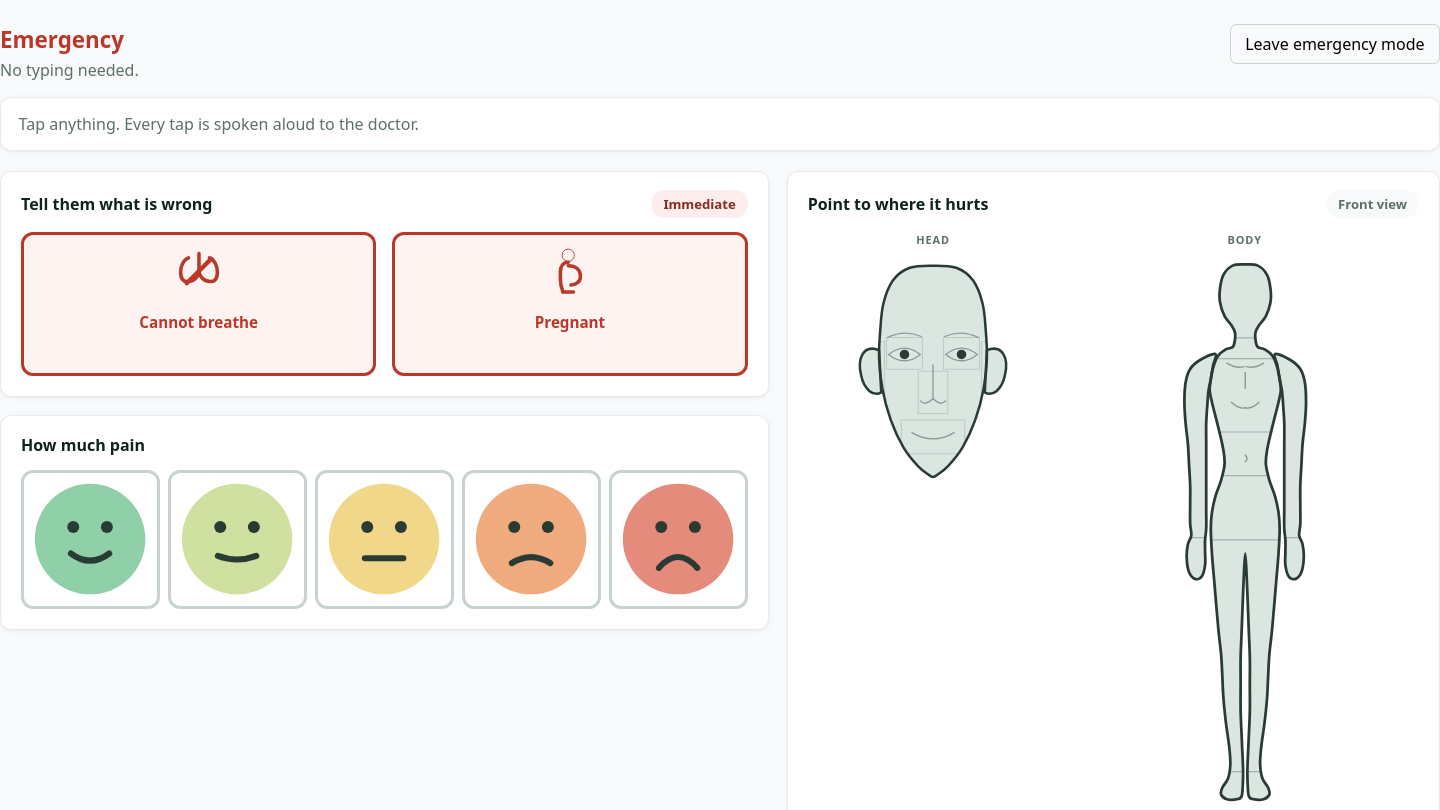
it: telling the patient they are being heard › can always be stopped, so a stalled answer cannot trap the patient
This screenshot has width=1440, height=810.
Click the button with test id "pain-level-5" at (678, 539), box [609,470,748,609]
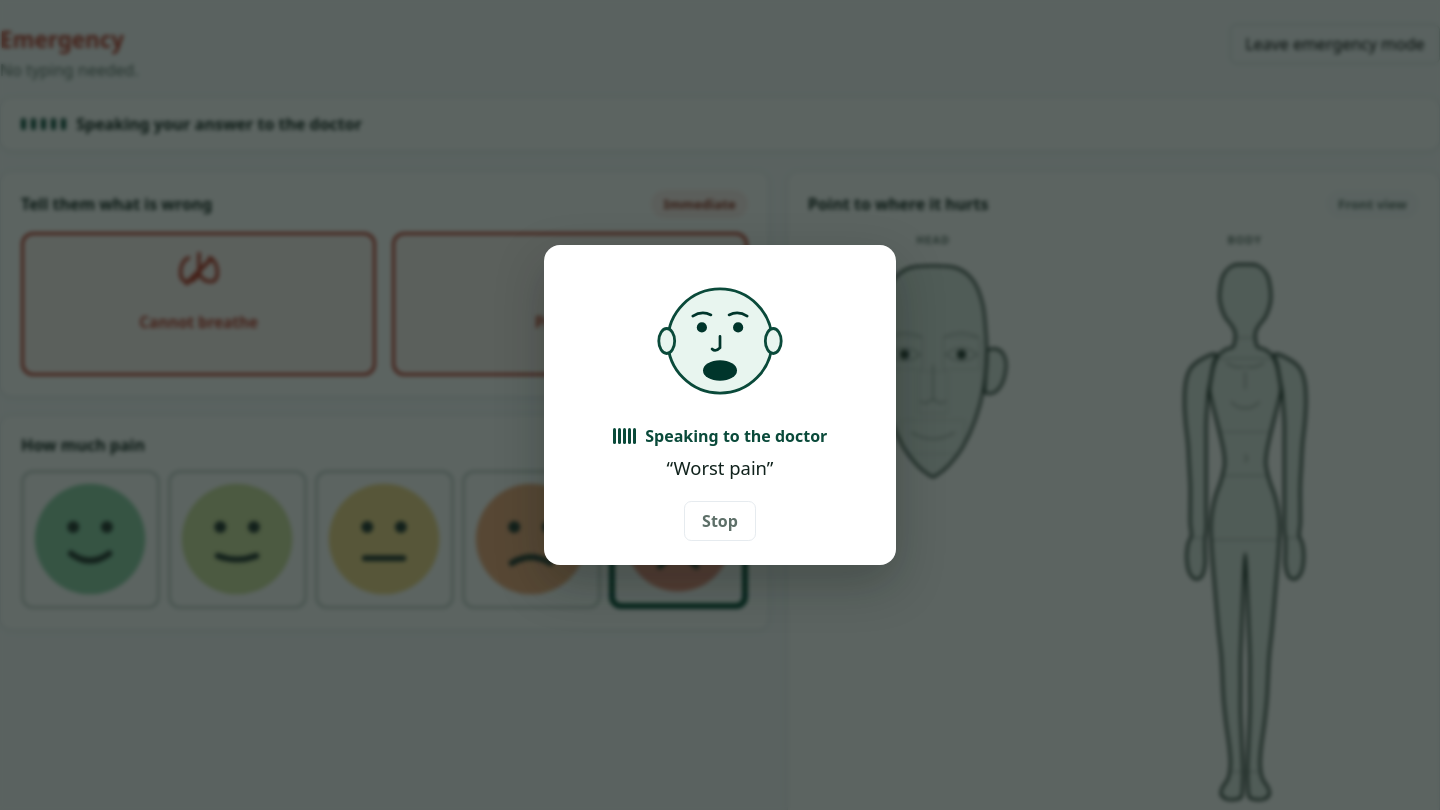
Result: the button with test id "stop-speaking" is shown
Click the button with test id "stop-speaking" at (720, 521), box [684,501,756,541]
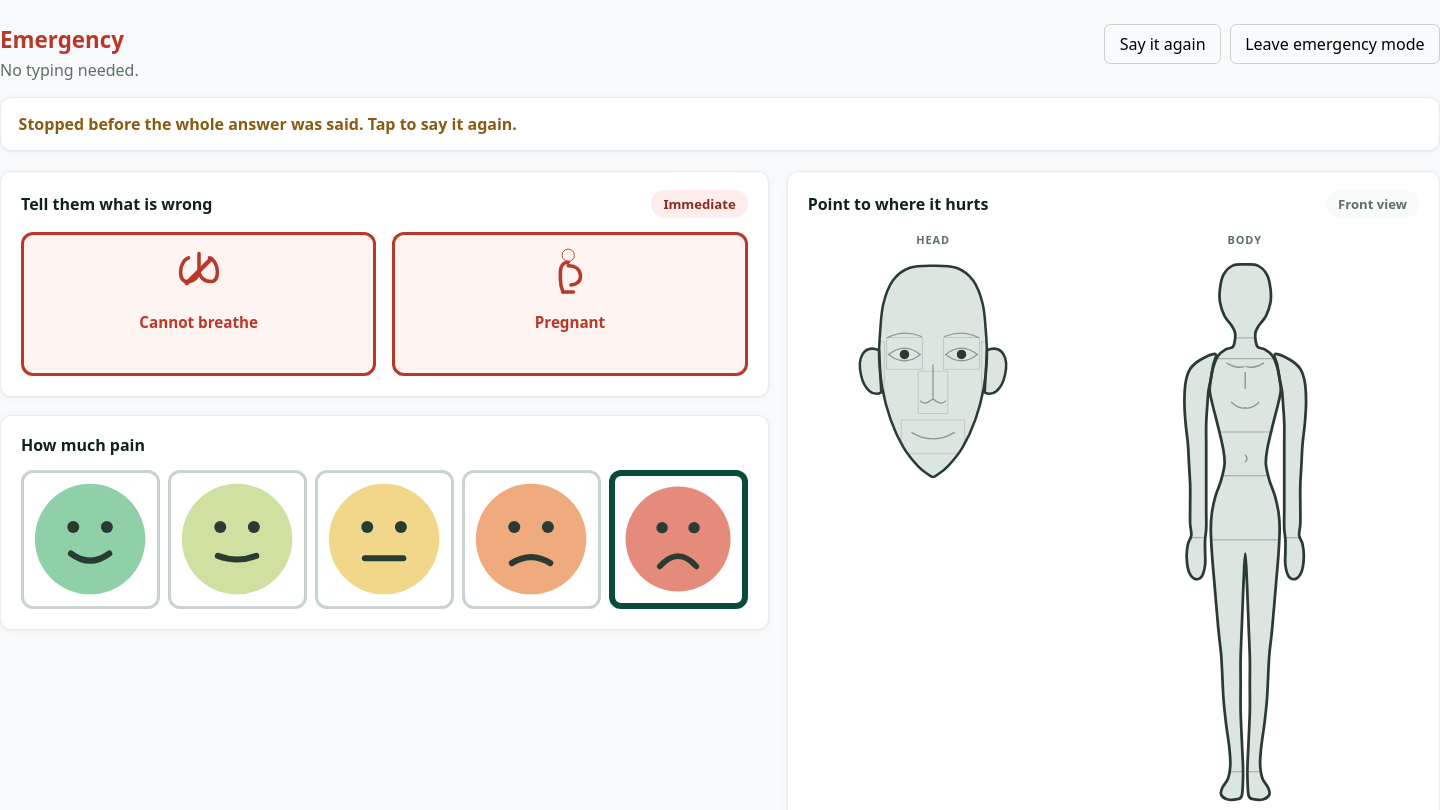
Result: the element with test id "speaking-overlay" is gone
Result: the text with test id "spoken-stopped" is shown at [19,113,517,135]
